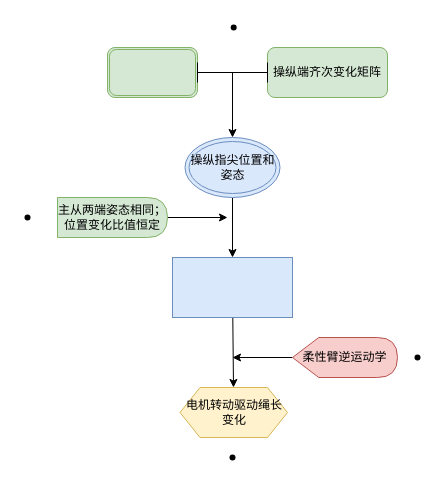
This 445x485 diagram has some shape labels left out. Each missing label, with the centre of its shape:
"柔性手术臂末端位置和姿态" belongs at (232,287).
"编码器数据" belongs at (152,72).
